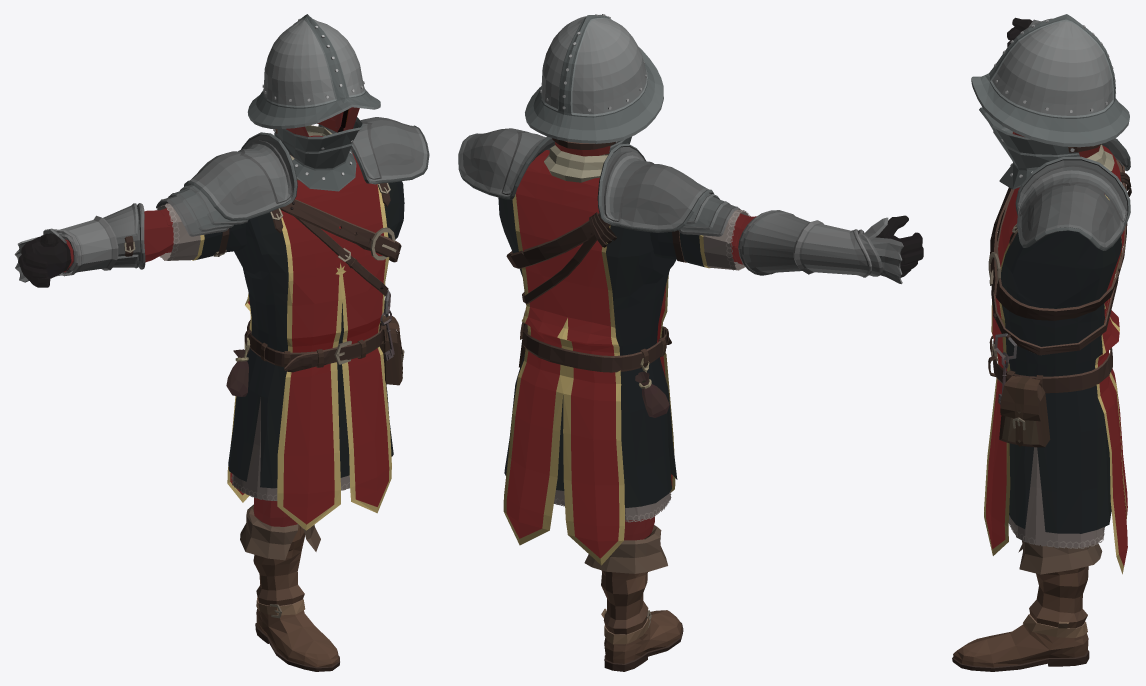
The model's file is gateGuardDetailed.glb.
3 renders of one model, left to right at view 1: azimuth 30°, elevation 25°; view 2: azimuth 150°, elevation 25°; view 3: azimuth 270°, elevation 25°, orthographic. The views are drawn at different scales.
Parts seen in each view (by area): view 1: gateGuardBanner, gateGuardDetails, gateGuardDetailedHelmet, gateGuardDetailedBody, gateGuardDetailedLowerLeg, gateGuardDetailedlowerArm, gateGuardDetailedUpperArm, gateGuardDetailedFoot, gateGuardDetailedGlove; view 2: gateGuardBanner, gateGuardDetails, gateGuardDetailedBody, gateGuardDetailedHelmet, gateGuardDetailedlowerArm, gateGuardDetailedLowerLeg, gateGuardDetailedUpperArm, gateGuardDetailedFoot, gateGuardDetailedGlove; view 3: gateGuardDetailedBody, gateGuardDetails, gateGuardDetailedHelmet, gateGuardBanner, gateGuardDetailedLowerLeg, gateGuardDetailedFoot, gateGuardDetailedGlove.
Boxes of the visible parts, box(x1,y1,x2,y2) form: gateGuardBanner: box(227, 135, 391, 530); gateGuardDetails: box(184, 117, 429, 396); gateGuardDetailedHelmet: box(247, 14, 380, 191); gateGuardDetailedBody: box(228, 125, 404, 500); gateGuardDetailedLowerLeg: box(240, 497, 320, 620); gateGuardDetailedlowerArm: box(41, 203, 173, 276); gateGuardDetailedUpperArm: box(156, 184, 248, 260); gateGuardDetailedFoot: box(255, 609, 339, 671); gateGuardDetailedGlove: box(14, 228, 71, 287); gateGuardBanner: box(503, 150, 675, 565); gateGuardDetails: box(458, 128, 713, 417); gateGuardDetailedBody: box(498, 145, 677, 522); gateGuardDetailedHelmet: box(525, 14, 663, 156); gateGuardDetailedlowerArm: box(731, 210, 882, 277); gateGuardDetailedLowerLeg: box(584, 515, 667, 645); gateGuardDetailedUpperArm: box(650, 193, 750, 270); gateGuardDetailedFoot: box(604, 610, 683, 671); gateGuardDetailedGlove: box(864, 215, 923, 284); gateGuardDetailedBody: box(1001, 144, 1121, 548); gateGuardDetails: box(988, 138, 1131, 447); gateGuardDetailedHelmet: box(971, 14, 1129, 189); gateGuardBanner: box(984, 145, 1127, 574); gateGuardDetailedLowerLeg: box(1018, 540, 1102, 643); gateGuardDetailedFoot: box(952, 624, 1089, 671); gateGuardDetailedGlove: box(1007, 17, 1040, 46).
Size of the model in its own units: 1.45 by 2.03 by 0.4979.
